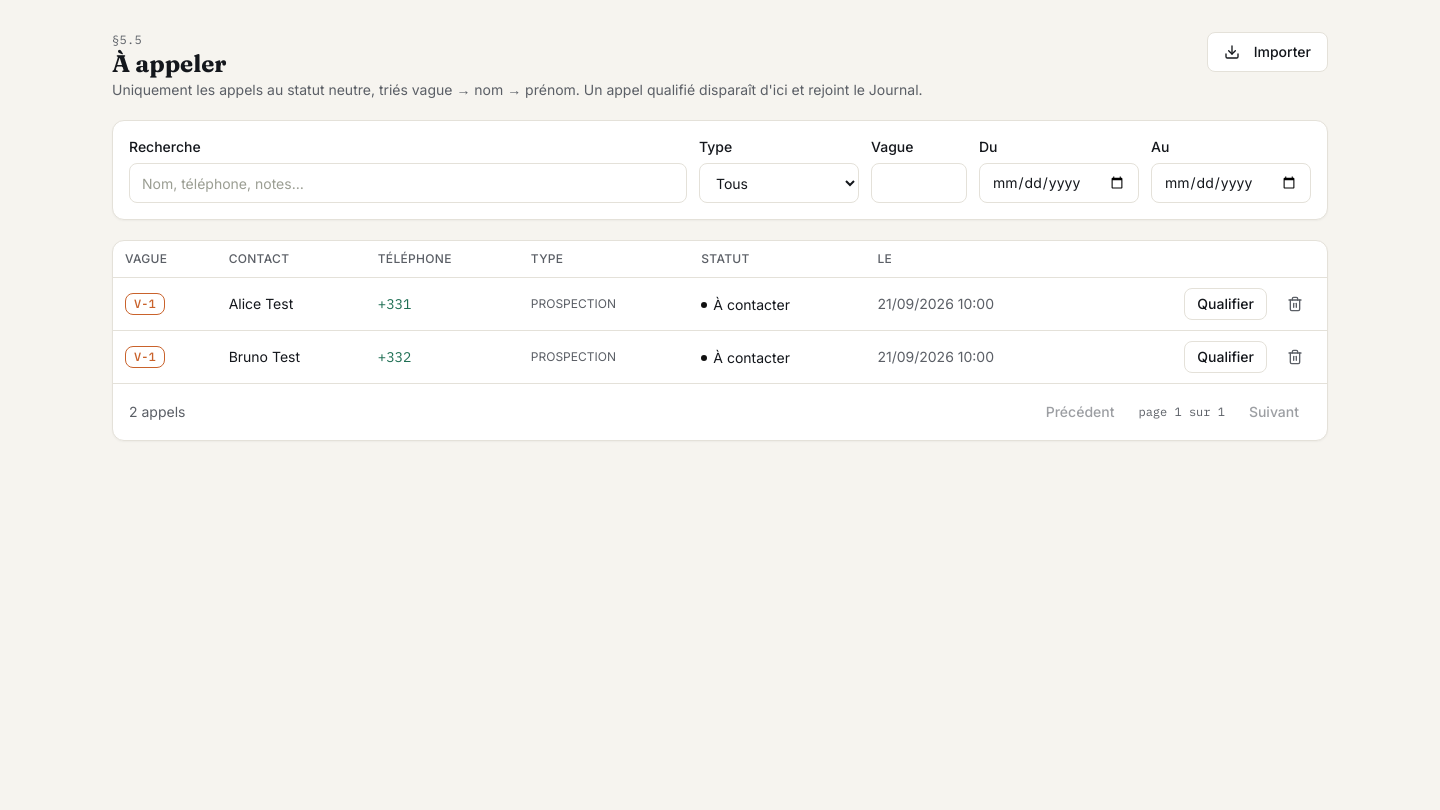
Test case: /calls — suppression d'un appel › succès (204) : deleteCall(id), modale fermée, l'appel disparaît de la liste
This screenshot has width=1440, height=810.
Step 1. Click the button named "Supprimer" in the row of "Alice Test" → (1295, 304), box [1275, 288, 1315, 320]
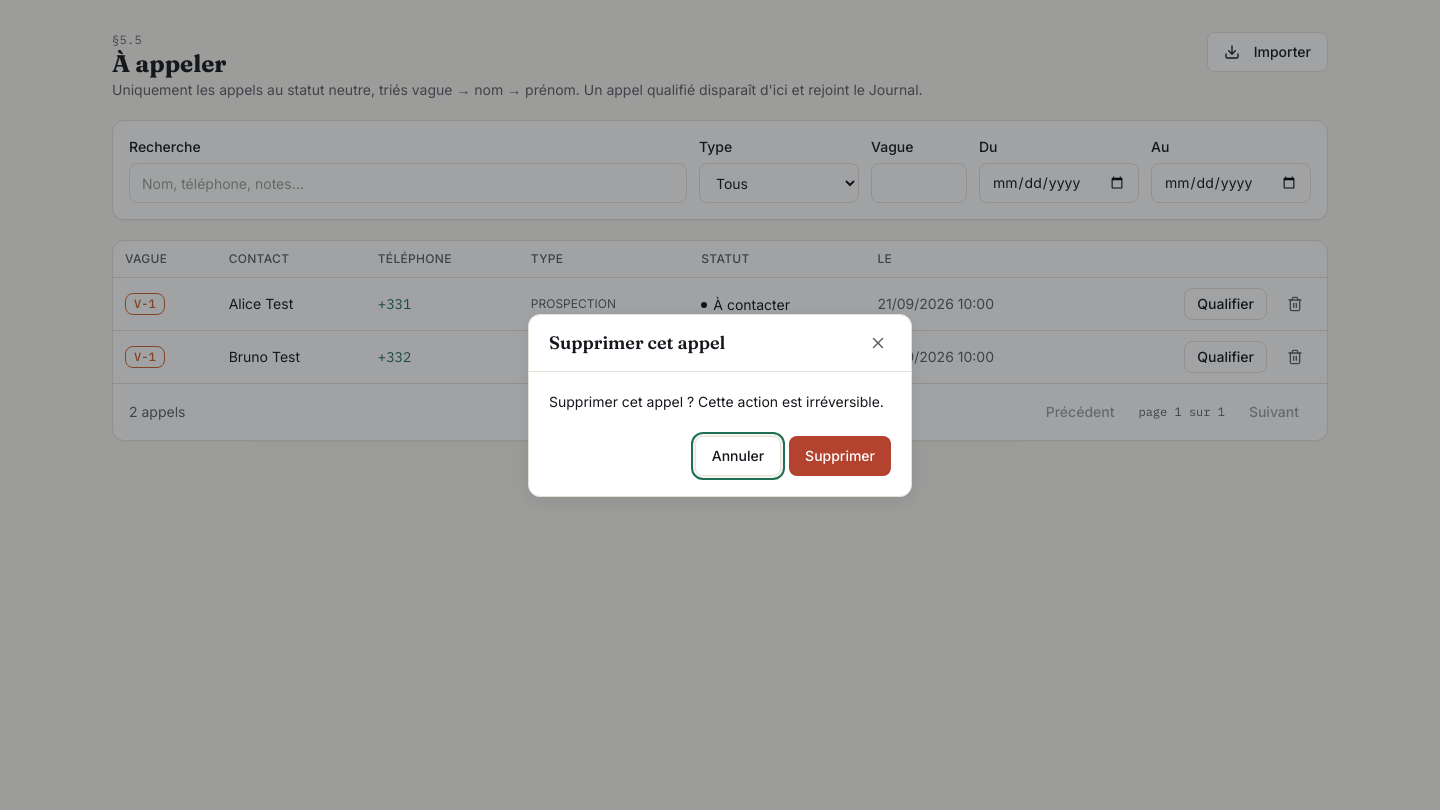
Step 2. Click the button "Supprimer" → (840, 456), box [789, 436, 891, 476]
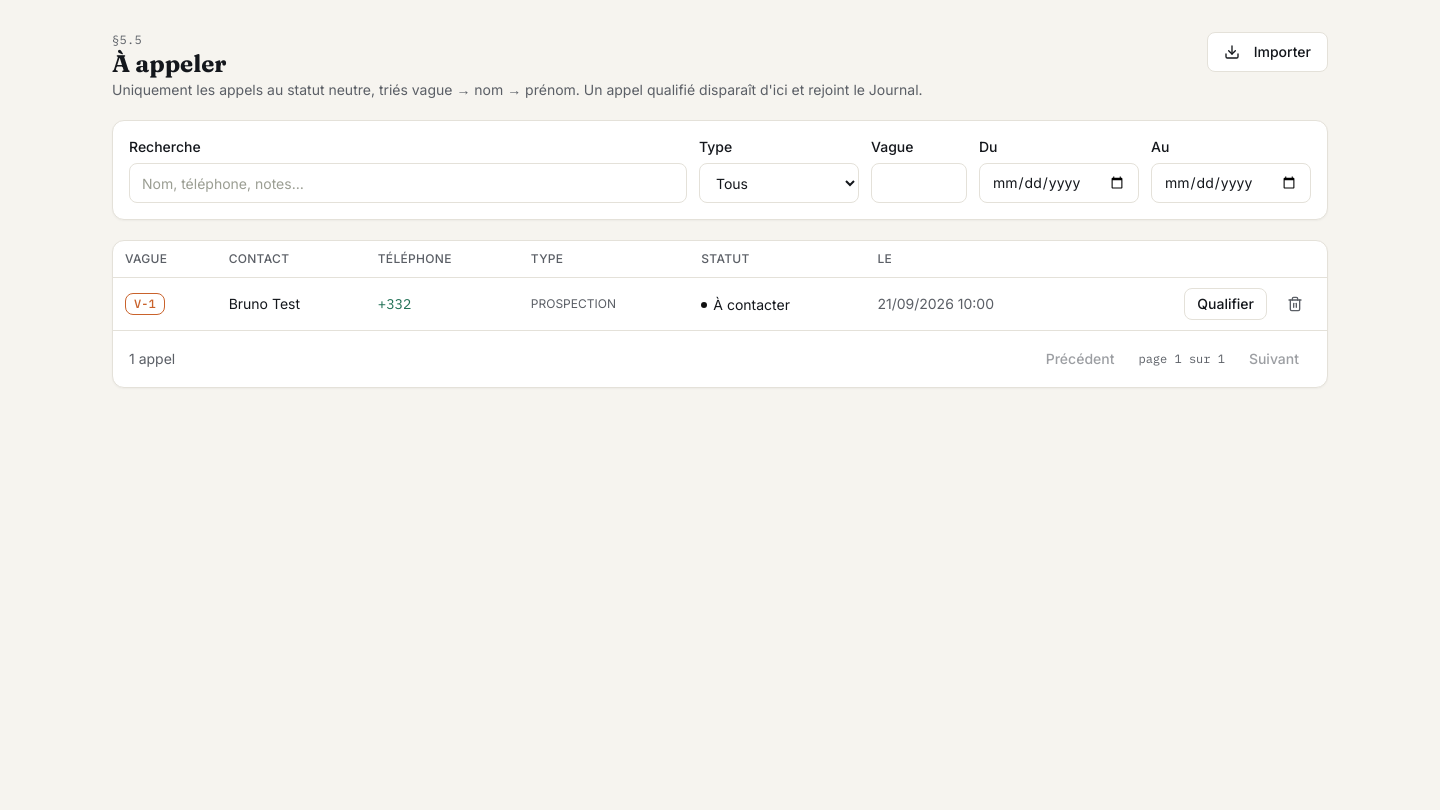
Expected: the text "Bruno Test" is shown, [217, 278, 366, 330]
Now the text "Alice" is gone
Now the heading "Supprimer cet appel" is gone
